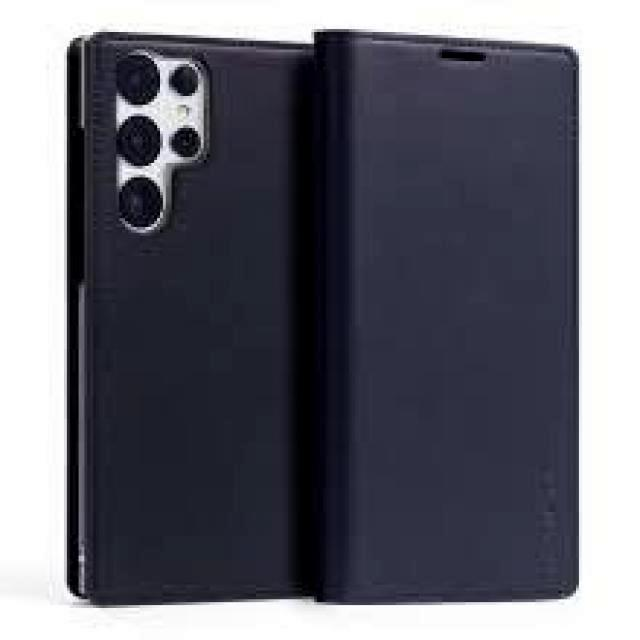lens_back: (106, 171, 174, 237), (106, 44, 166, 112), (116, 107, 176, 164), (168, 52, 206, 111), (166, 125, 206, 157)
phone: (60, 21, 318, 615)
